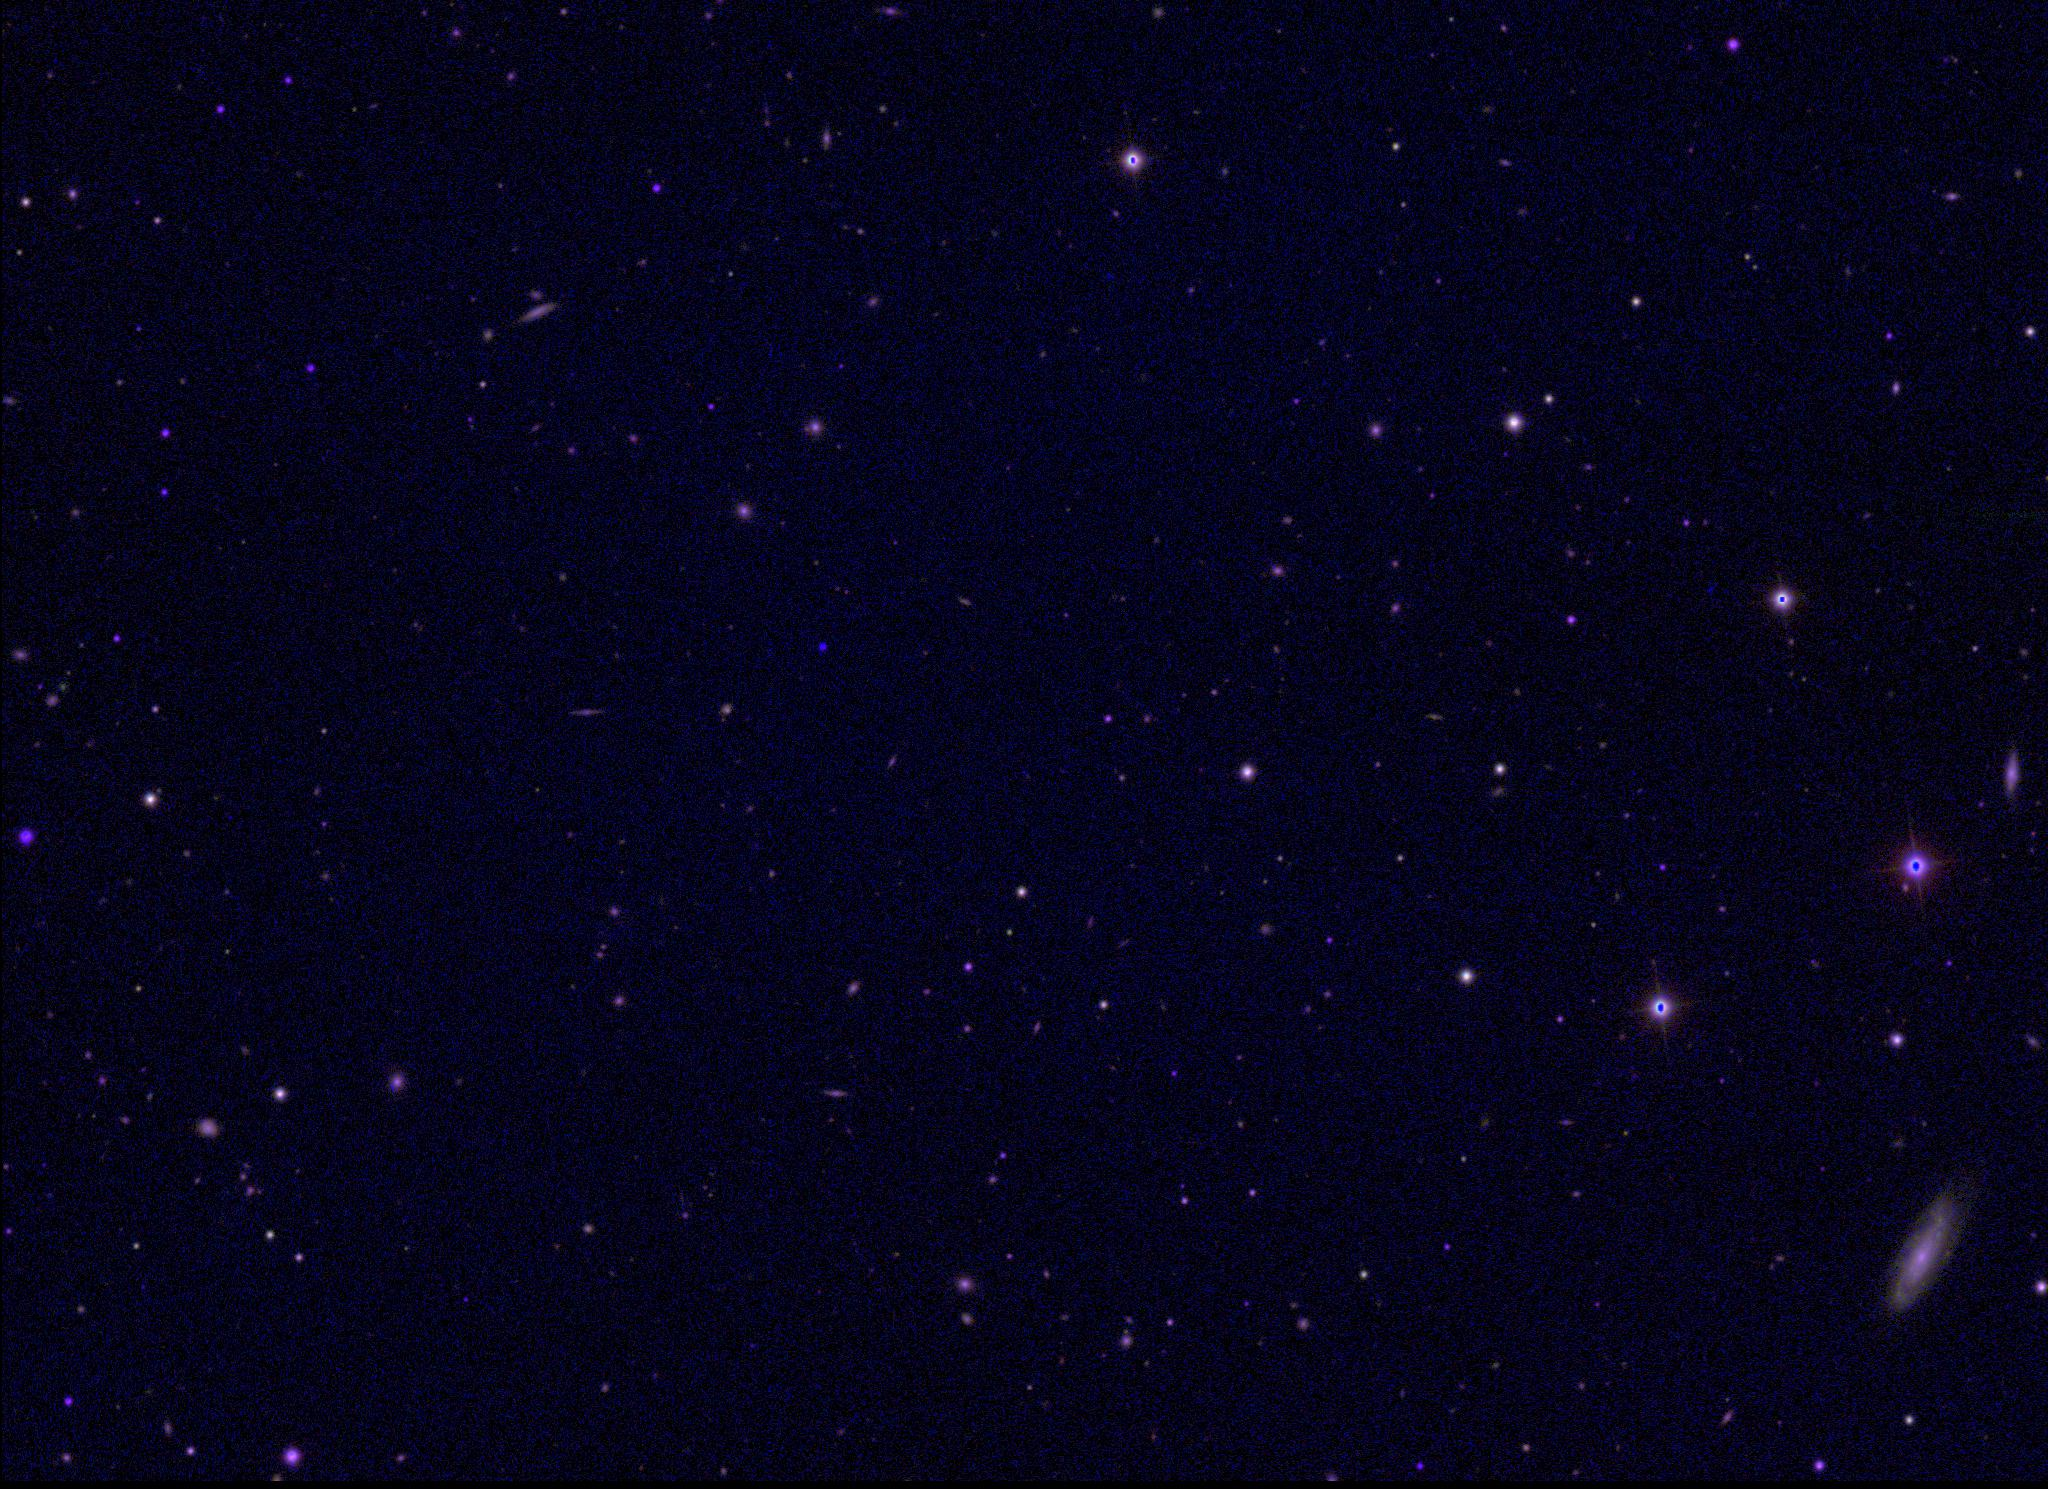L: (816, 640, 830, 654)
